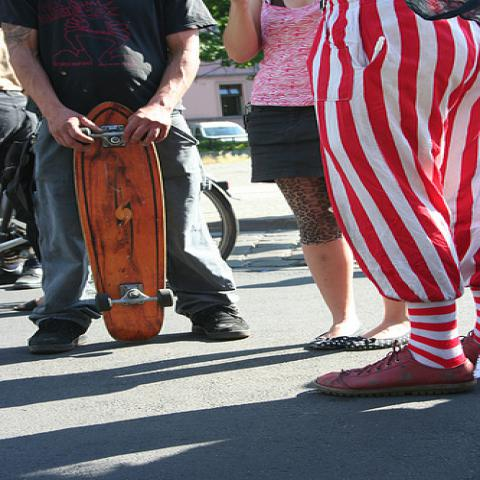car: (189, 122, 249, 142)
